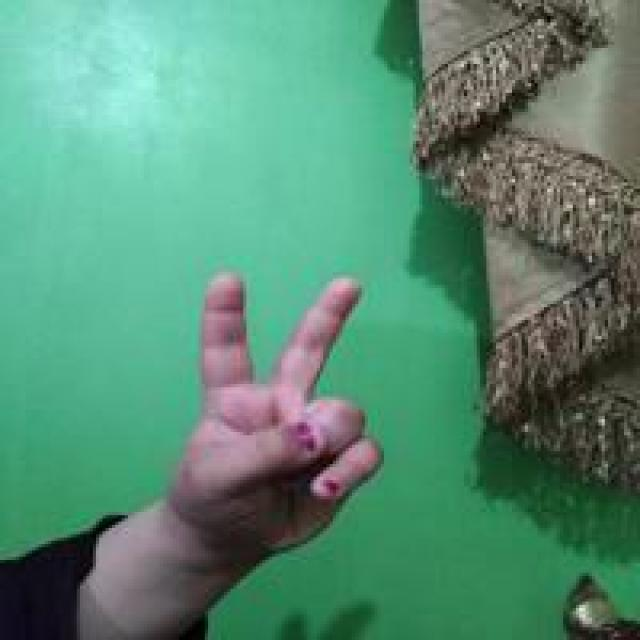V: (166, 267, 384, 562)
